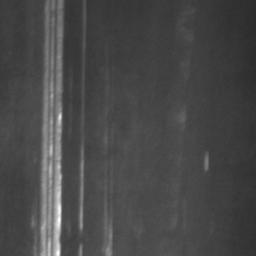Bright scratch: (40, 0, 65, 256), (79, 145, 86, 227), (205, 152, 210, 170)
